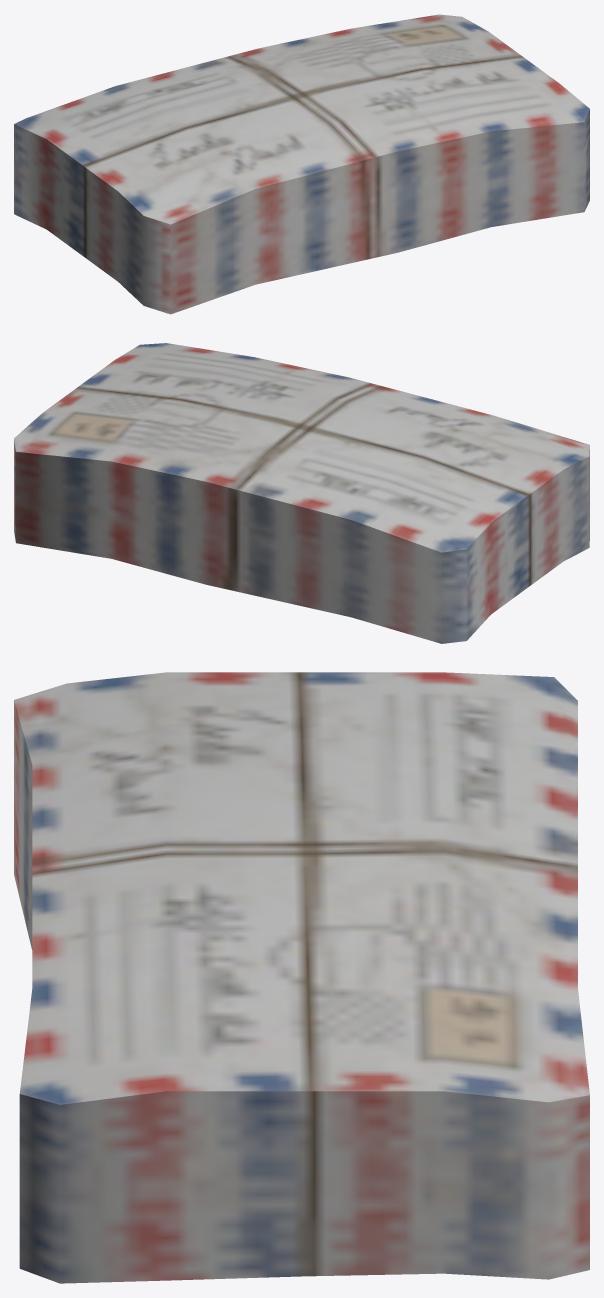
The model's file is SM_Parcels_01h.fbx.
The picture shows the model from 3 angles, top to bottom: view 1: azimuth 30°, elevation 25°; view 2: azimuth 150°, elevation 25°; view 3: azimuth 270°, elevation 25°; orthographic projection. The views are drawn at different scales.
Visible parts, largest first — view 1: SM_Parcels_01h; view 2: SM_Parcels_01h; view 3: SM_Parcels_01h.
Boxes of the visible parts, x1,y1,x2,y2 form: SM_Parcels_01h: (14,14,589,314); SM_Parcels_01h: (14,343,589,643); SM_Parcels_01h: (14,672,589,1283).
Bounding box in the file's own units: 22.81 × 5.93 × 13.04.
